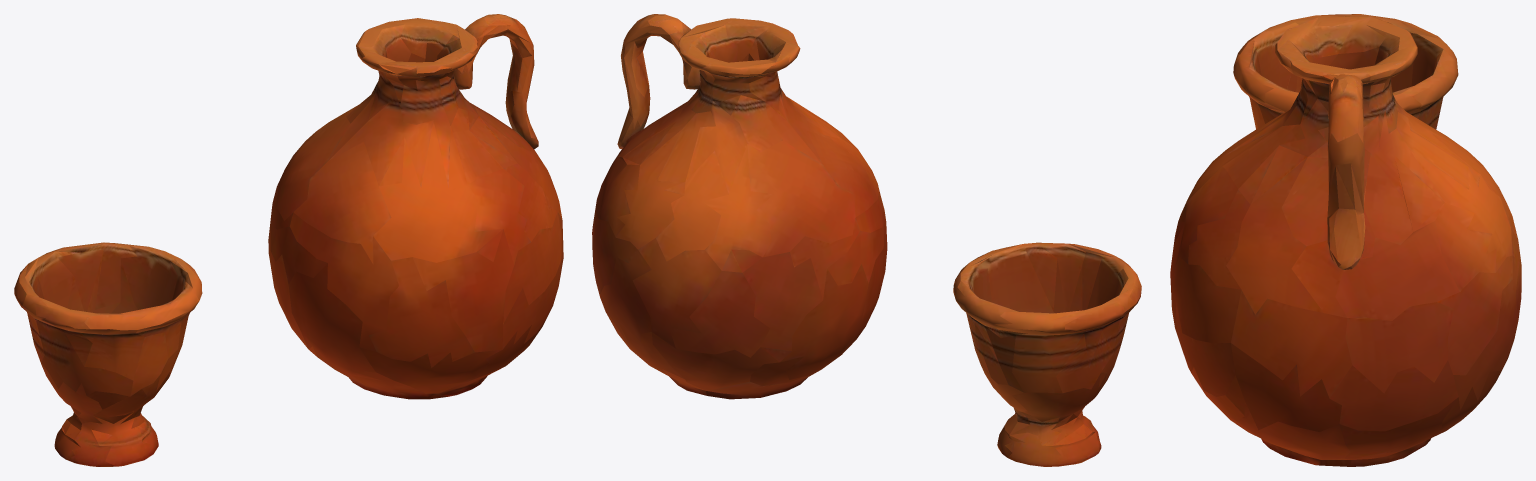
Rendered from jug-cup.glb.
The picture shows the model from 3 angles, left to right: view 1: azimuth 30°, elevation 25°; view 2: azimuth 150°, elevation 25°; view 3: azimuth 270°, elevation 25°; orthographic projection. The views are drawn at different scales.
Parts seen in each view (by area): view 1: jug-cup; view 2: jug-cup; view 3: jug-cup.
Part boxes in pixels (x1=…): jug-cup: x1=14, y1=14, x2=563, y2=466; jug-cup: x1=592, y1=14, x2=1141, y2=466; jug-cup: x1=1170, y1=14, x2=1521, y2=466.
Size of the model in its own units: 0.4846 by 0.3 by 0.2401.
1 material, 1 textured.
